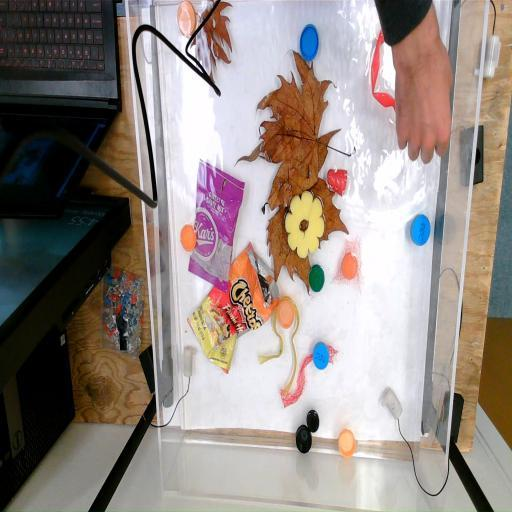Bottle Cap: (297, 24, 323, 64), (174, 0, 199, 39), (408, 216, 432, 247), (276, 300, 296, 332), (294, 423, 312, 458), (339, 427, 356, 463), (308, 264, 328, 294), (180, 220, 198, 252), (340, 251, 359, 281), (313, 342, 331, 370), (306, 408, 322, 434)
Cone Cap: (326, 166, 350, 198)
Leaf: (234, 49, 360, 185), (260, 174, 350, 284), (194, 0, 238, 64)
Netting: (280, 332, 340, 417), (335, 233, 368, 301)
Plastic Bag: (186, 242, 274, 373), (185, 155, 247, 289)
Plastic Strand: (258, 292, 308, 398), (367, 25, 397, 127)
Sponge: (284, 190, 329, 262)
